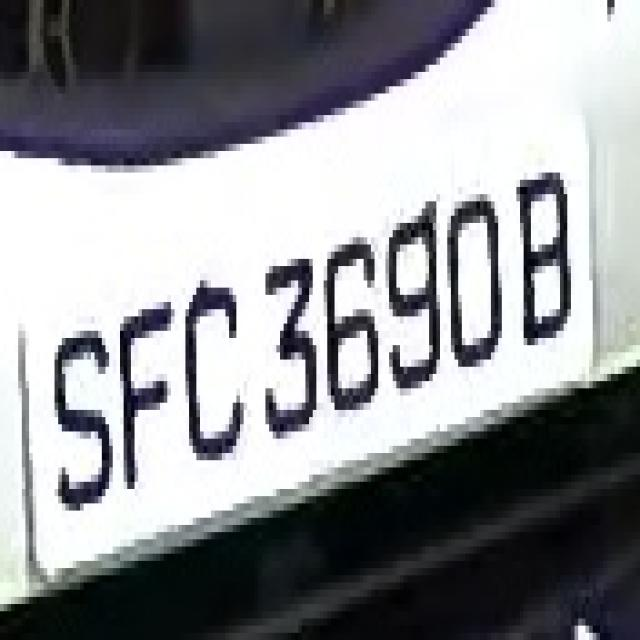0: (433, 180, 509, 395)
3: (255, 230, 320, 453)
6: (313, 202, 385, 424)
9: (371, 187, 447, 417)
B: (509, 137, 575, 381)
C: (171, 259, 244, 482)
F: (106, 266, 178, 511)
S: (47, 302, 116, 525)
